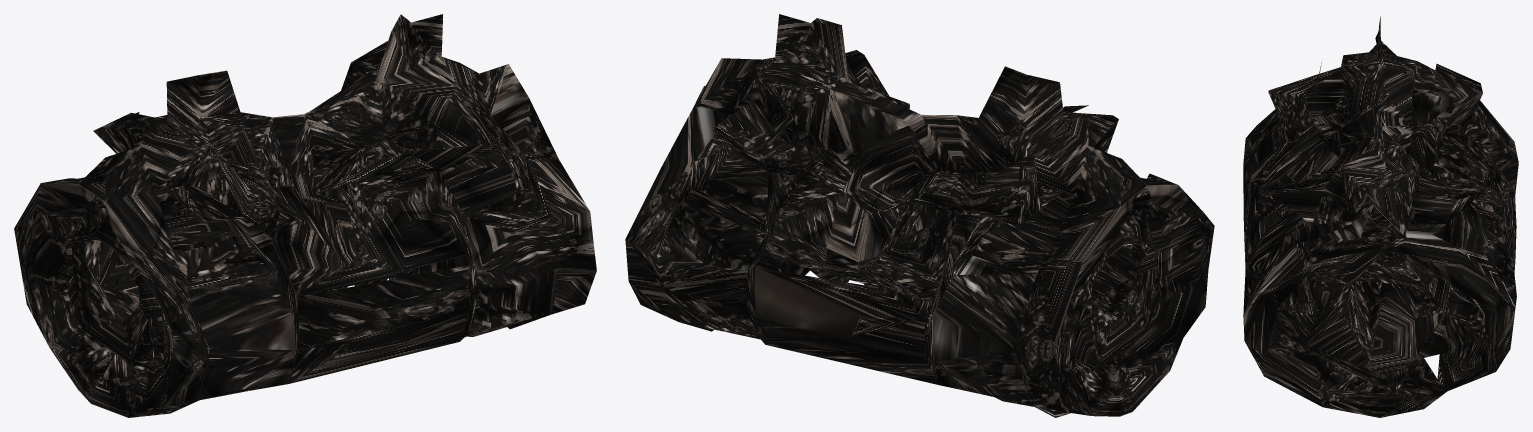
File: pipes.glb
3 views of the same model, side by side, from view 1: azimuth 30°, elevation 25°; view 2: azimuth 150°, elevation 25°; view 3: azimuth 270°, elevation 25° (orthographic). The views are drawn at different scales.
Parts seen in each view (by area): view 1: pipes; view 2: pipes; view 3: pipes.
Boxes of the visible parts, x1,y1,x2,y2 form: pipes: [14, 14, 596, 417]; pipes: [625, 14, 1214, 417]; pipes: [1243, 16, 1518, 417].
Size of the model in its own units: 0.9977 by 0.7074 by 0.6615.
Materials: 1 (1 with a texture image).
